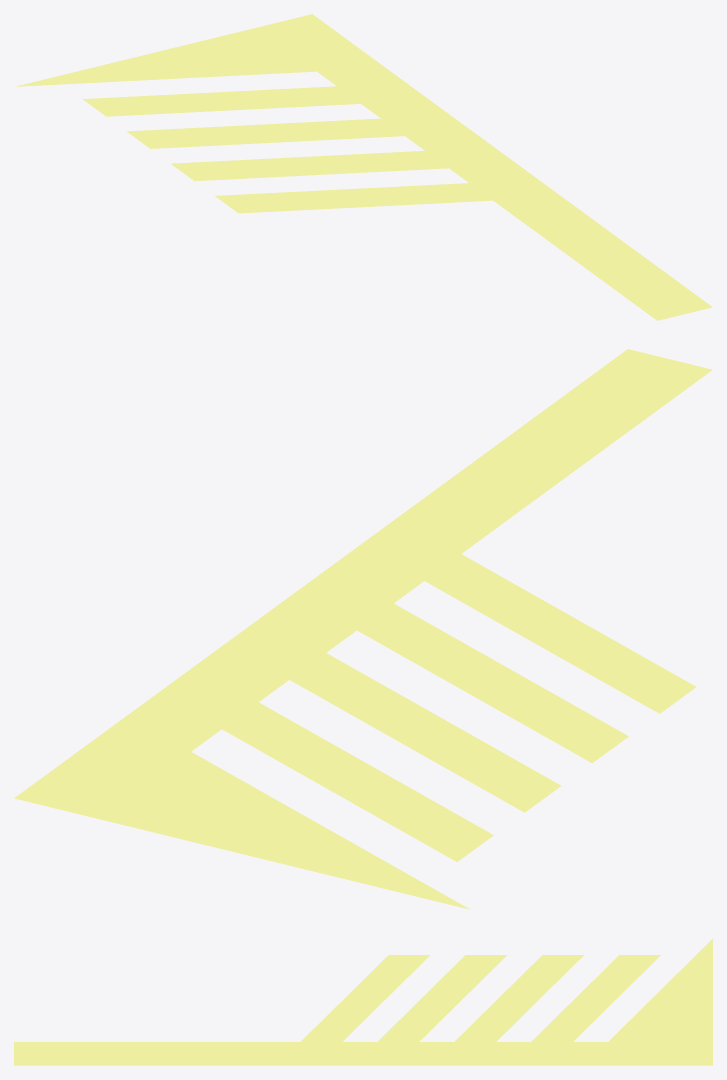
The model's file is 039shemi08750925kts.dae.
3 views of the same model, one above another, from view 1: azimuth 30°, elevation 25°; view 2: azimuth 150°, elevation 25°; view 3: azimuth 270°, elevation 25° (orthographic). The views are drawn at different scales.
Visible parts, largest first — view 1: Plane; view 2: Plane; view 3: Plane.
Part boxes in pixels (<box>): Plane: <box>17,14,711,320</box>; Plane: <box>14,349,711,909</box>; Plane: <box>14,939,712,1065</box>.
Size of the model in its own units: 43 by 100 by 0.
